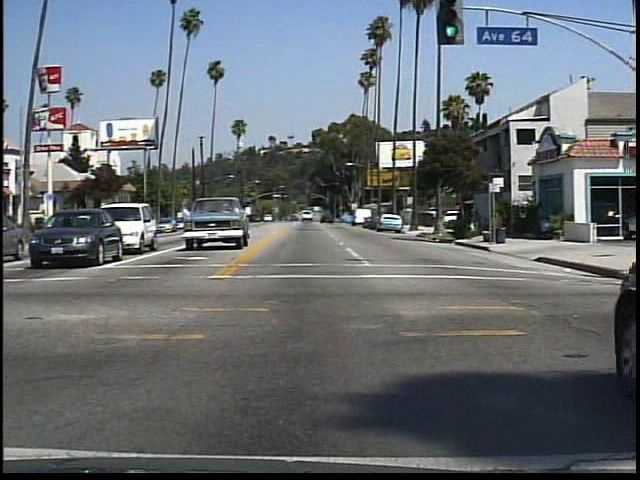person: (461, 200, 482, 242)
